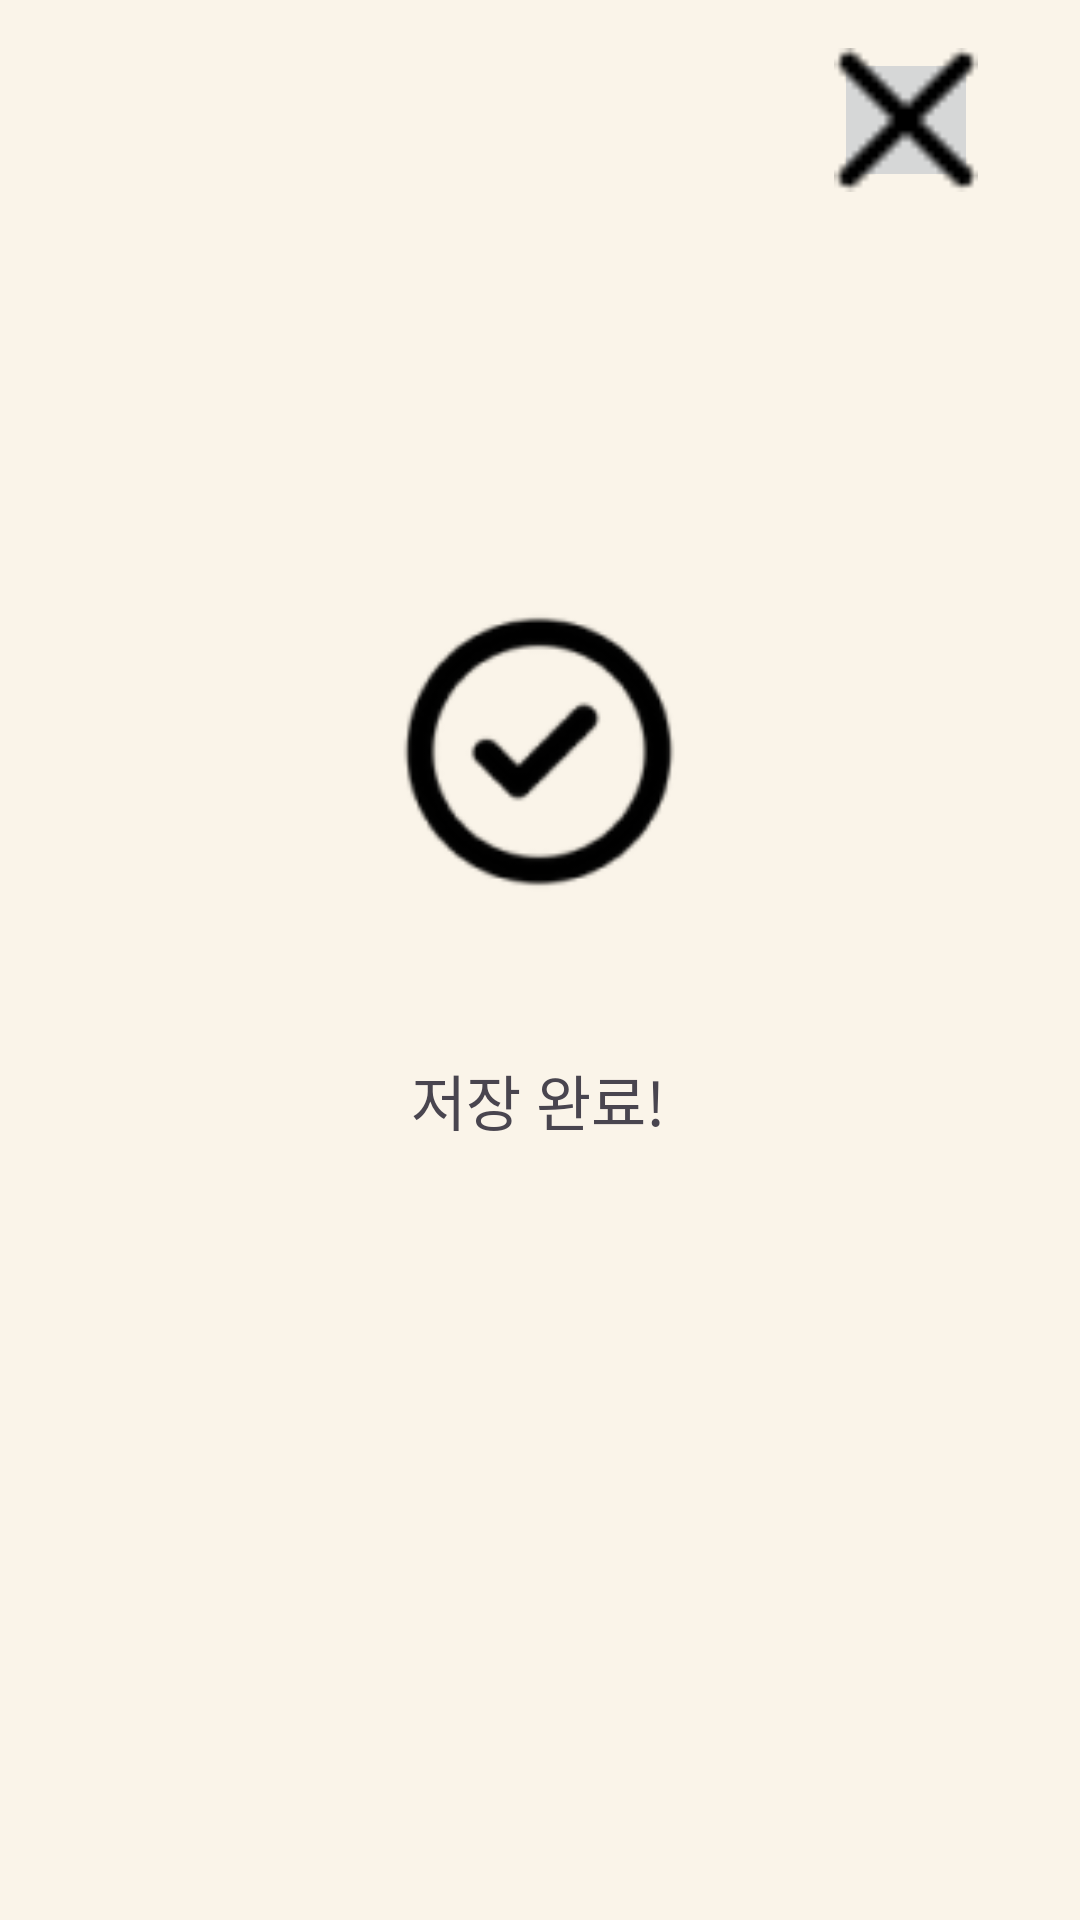

Icons on this 1080w x 1920h Android screen, each with its box as [x1,y1,x2,y2]:
check: [404,617,674,886]
